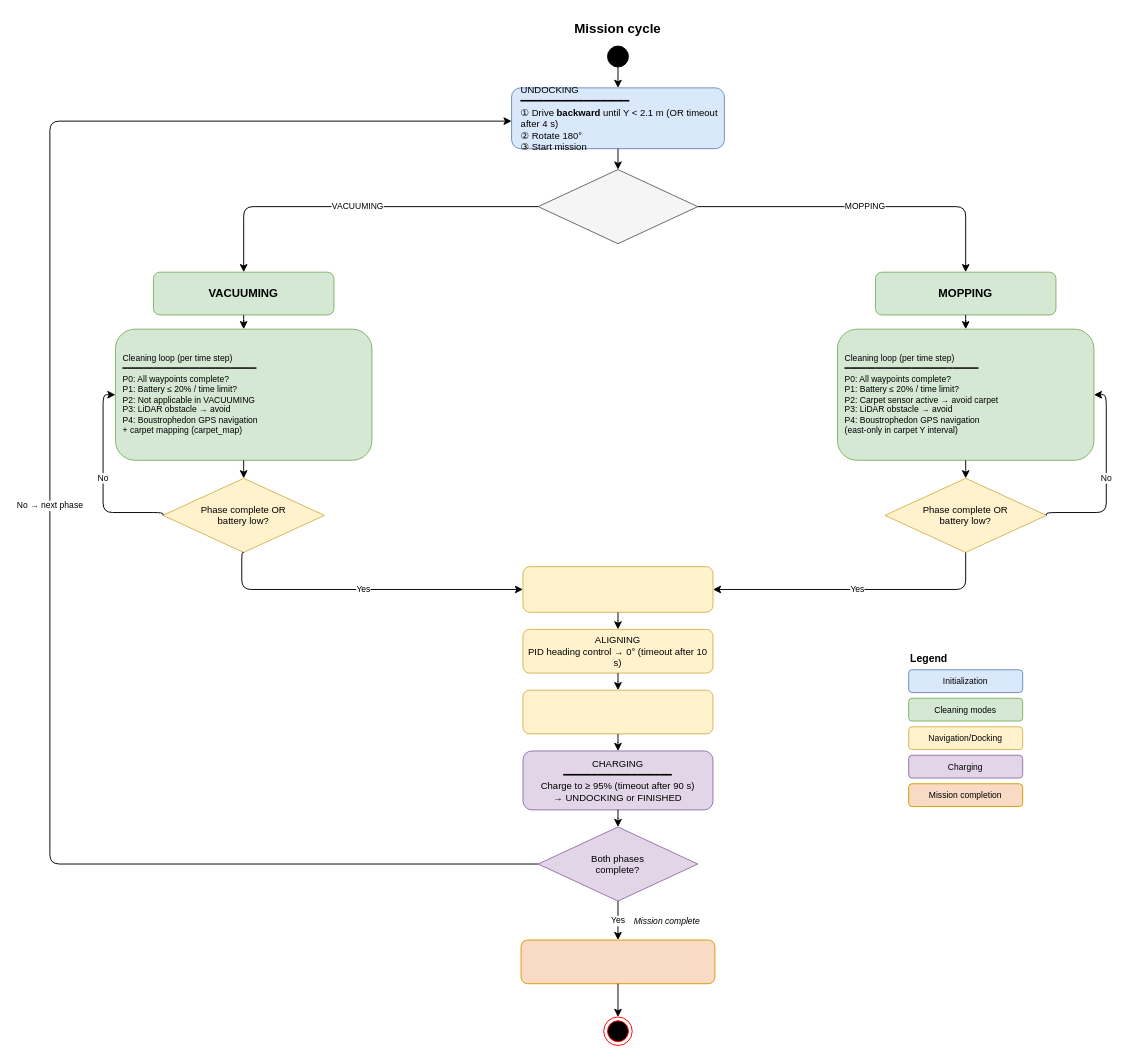
Image size: 1131x1062. Some labels were removed from this diagram. The shapes that lost their labels are listed below. From the top down, each one's centre as x and y in pixels, then its label:
the point at 617,206: Active mission_phase?
the point at 617,589: RETURNING GPS navigation to pre-dock (X≈2.0; Y≈1.8)
the point at 617,711: DOCKING Drive to charger; dock contact → complete
the point at 617,961: FINISHED Mission complete — robot stops
